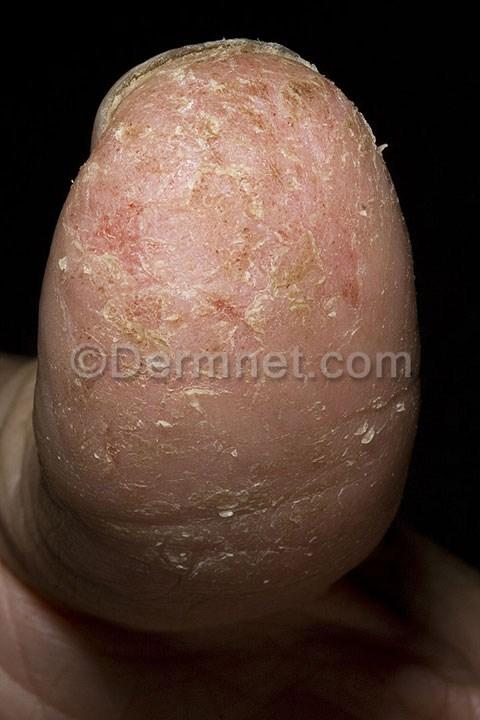Eczema: (107, 40, 361, 337)
